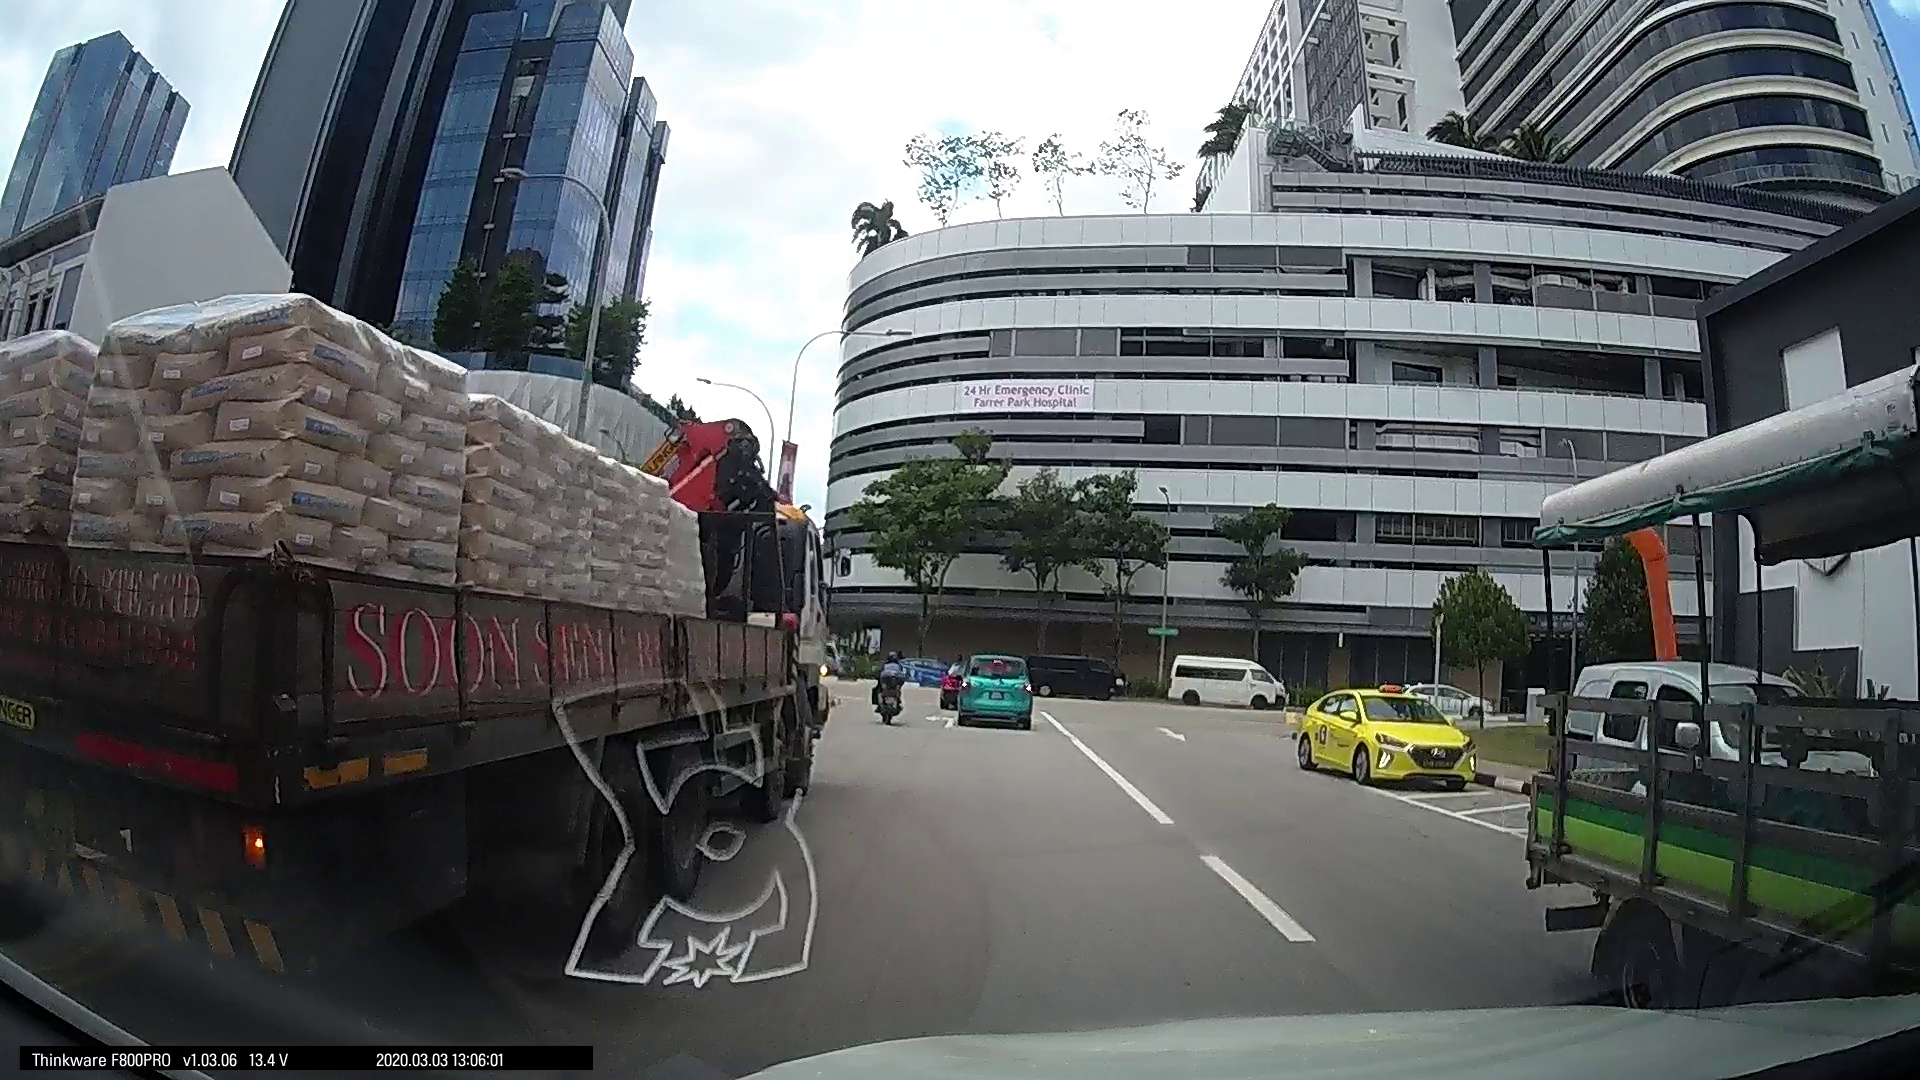Heavy Vehicle: (402, 375, 857, 825), (1404, 580, 1629, 790), (1156, 633, 1220, 698)
Light Vehicle: (1, 673, 243, 1021), (1025, 630, 1079, 684), (1088, 651, 1126, 684)
